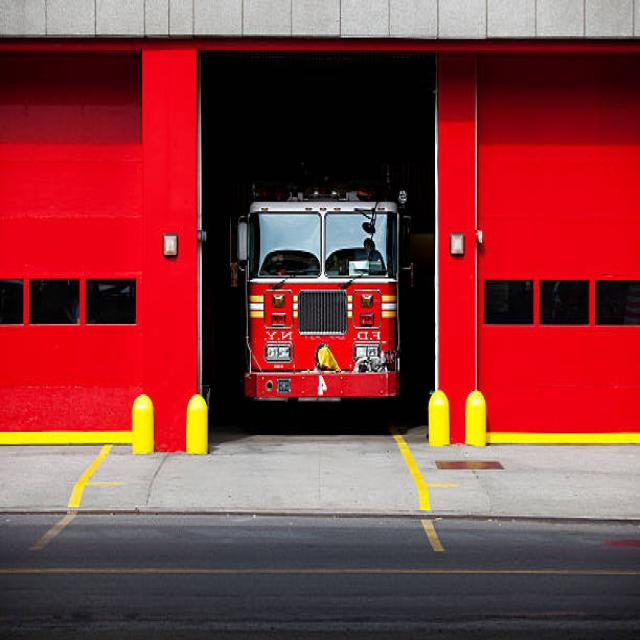emergency: (231, 184, 411, 397)
